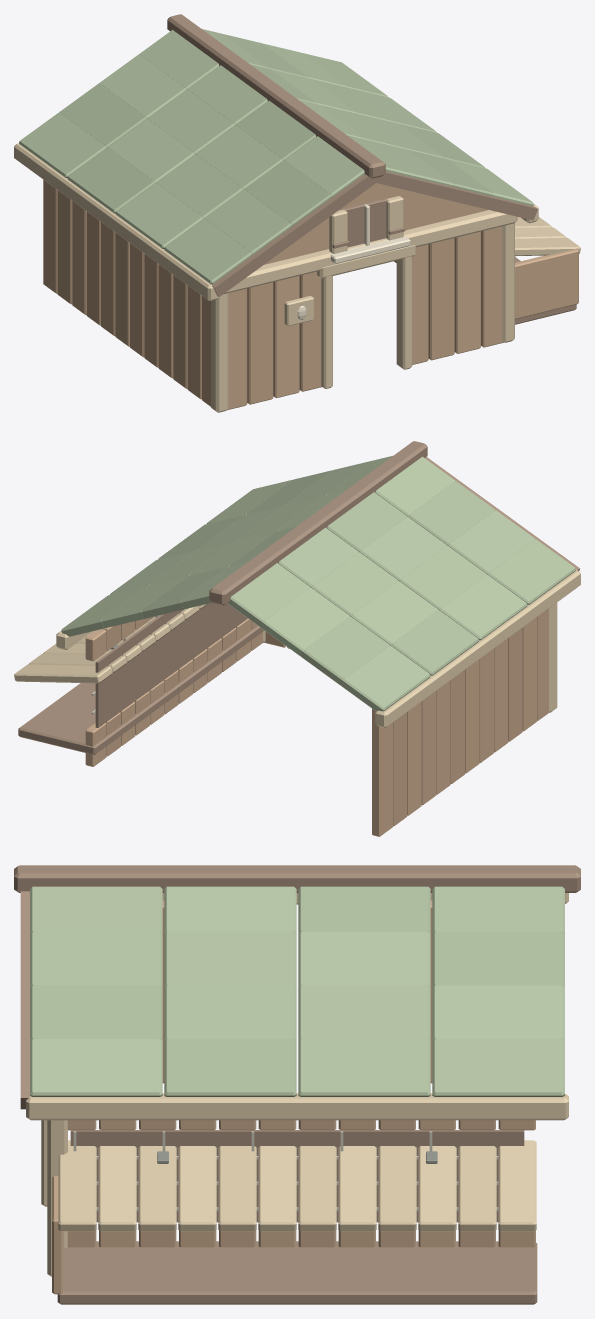
The model's file is crafted-coop-2-ready-front.glb.
3 renders of one model, top to bottom at view 1: azimuth 30°, elevation 25°; view 2: azimuth 150°, elevation 25°; view 3: azimuth 270°, elevation 25°, orthographic. The views are drawn at different scales.
Visible parts, largest first — view 1: ridge-cap, header-1, eave-fascia, nest-cheek-1, gable-1, siding-49, siding-53, siding-54, roof-tile-3, roof-tile, roof-tile-1, roof-tile-2 (+59 smaller); view 2: vent-dark-interior, nest-floor, ridge-cap, eave-fascia, roof-tile, roof-tile-8, roof-tile-4, roof-tile-2, roof-tile-1, roof-tile-3, roof-tile-5, roof-tile-9 (+43 smaller); view 3: nest-floor, eave-fascia-1, ridge-cap, vent-dark-interior, roof-tile-28, roof-tile-29, roof-tile-30, roof-tile-31, roof-tile-21, roof-tile-22, roof-tile-20, roof-tile-23 (+35 smaller).
Part boxes in pixels (x1,y1,x2,y2): ridge-cap: (167,14,385,178); header-1: (223,210,517,294); eave-fascia: (14,143,218,300); nest-cheek-1: (515,249,578,319); gable-1: (264,183,488,264); siding-49: (247,282,273,404); siding-53: (428,238,454,360); siding-54: (454,231,480,353); roof-tile-3: (164,218,252,284); roof-tile: (19,112,106,177); roof-tile-1: (67,148,155,213); roof-tile-2: (116,183,203,248); vent-dark-interior: (95,603,247,727); nest-floor: (18,626,264,754); ridge-cap: (209,441,427,605); eave-fascia: (375,570,580,727); roof-tile: (340,645,430,711); roof-tile-8: (261,587,350,656); roof-tile-4: (301,616,389,685); roof-tile-2: (439,574,527,640); roof-tile-1: (391,610,479,675); roof-tile-3: (488,539,575,604); roof-tile-5: (351,581,438,645); roof-tile-9: (311,552,398,616); nest-floor: (57,1241,537,1304); eave-fascia-1: (26,1093,568,1120); ridge-cap: (14,865,580,892); vent-dark-interior: (70,1130,524,1222); roof-tile-28: (432,1039,564,1096); roof-tile-29: (298,1039,430,1096); roof-tile-30: (164,1039,296,1096); roof-tile-31: (30,1039,162,1096); roof-tile-21: (298,931,430,986); roof-tile-22: (164,931,296,986); roof-tile-20: (432,931,564,986); roof-tile-23: (30,931,162,986).
Size of the model in its own units: 2.82 by 1.56 by 2.6.
